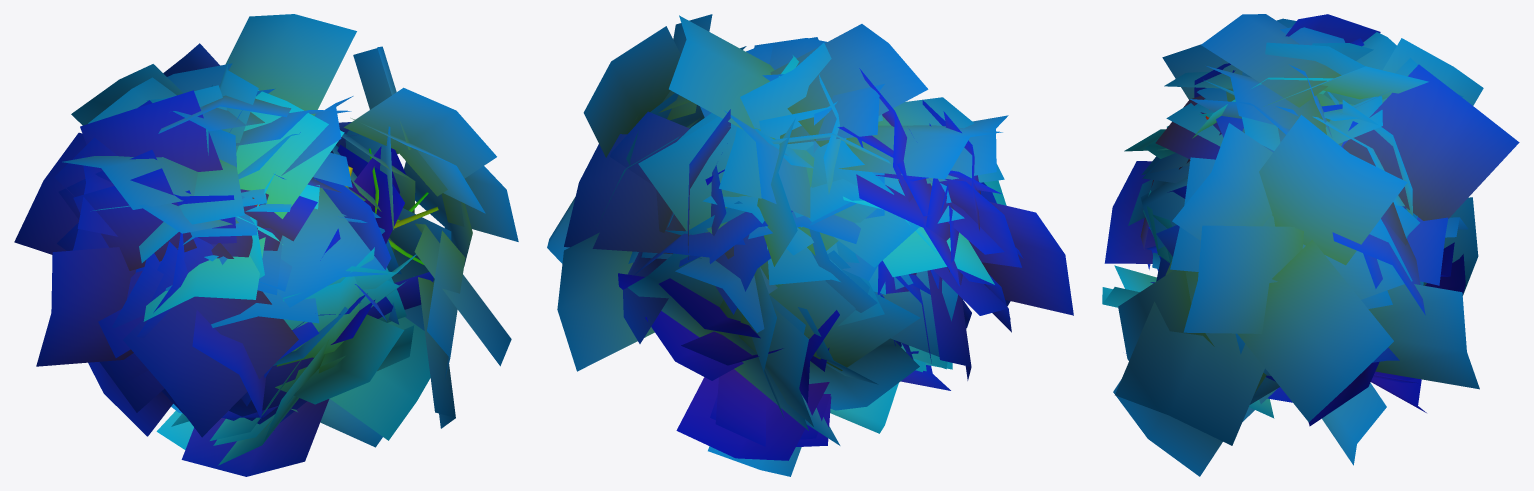
File: SM_Bush_Hawthorn_B_LOD2.fbx
3 renders of one model, left to right at view 1: azimuth 30°, elevation 25°; view 2: azimuth 150°, elevation 25°; view 3: azimuth 270°, elevation 25°, orthographic. The views are drawn at different scales.
Visible parts, largest first — view 1: SM_Bush_Hawthorn_B_LOD2; view 2: SM_Bush_Hawthorn_B_LOD2; view 3: SM_Bush_Hawthorn_B_LOD2.
Part boxes in pixels (x1=…): SM_Bush_Hawthorn_B_LOD2: x1=14, y1=14, x2=518, y2=476; SM_Bush_Hawthorn_B_LOD2: x1=547, y1=14, x2=1073, y2=476; SM_Bush_Hawthorn_B_LOD2: x1=1102, y1=14, x2=1519, y2=476.
Size of the model in its own units: 1.83 by 1.53 by 1.41.
